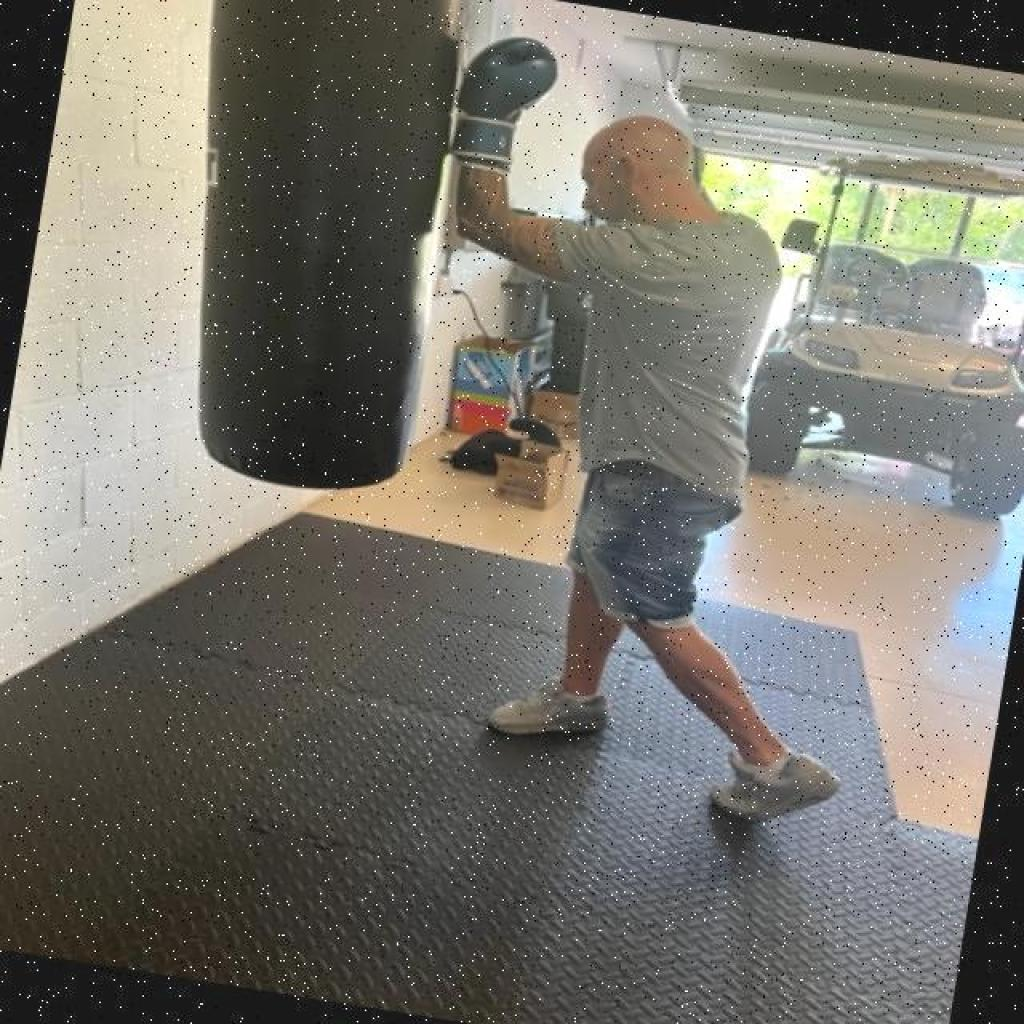uppercut: (397, 8, 853, 392)
